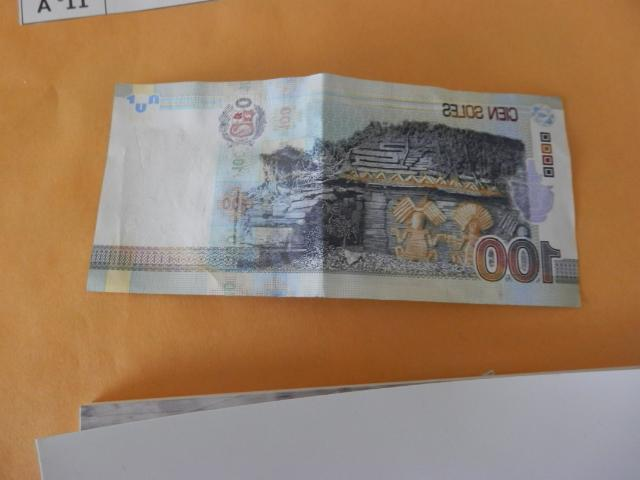B100: (84, 76, 581, 308)
